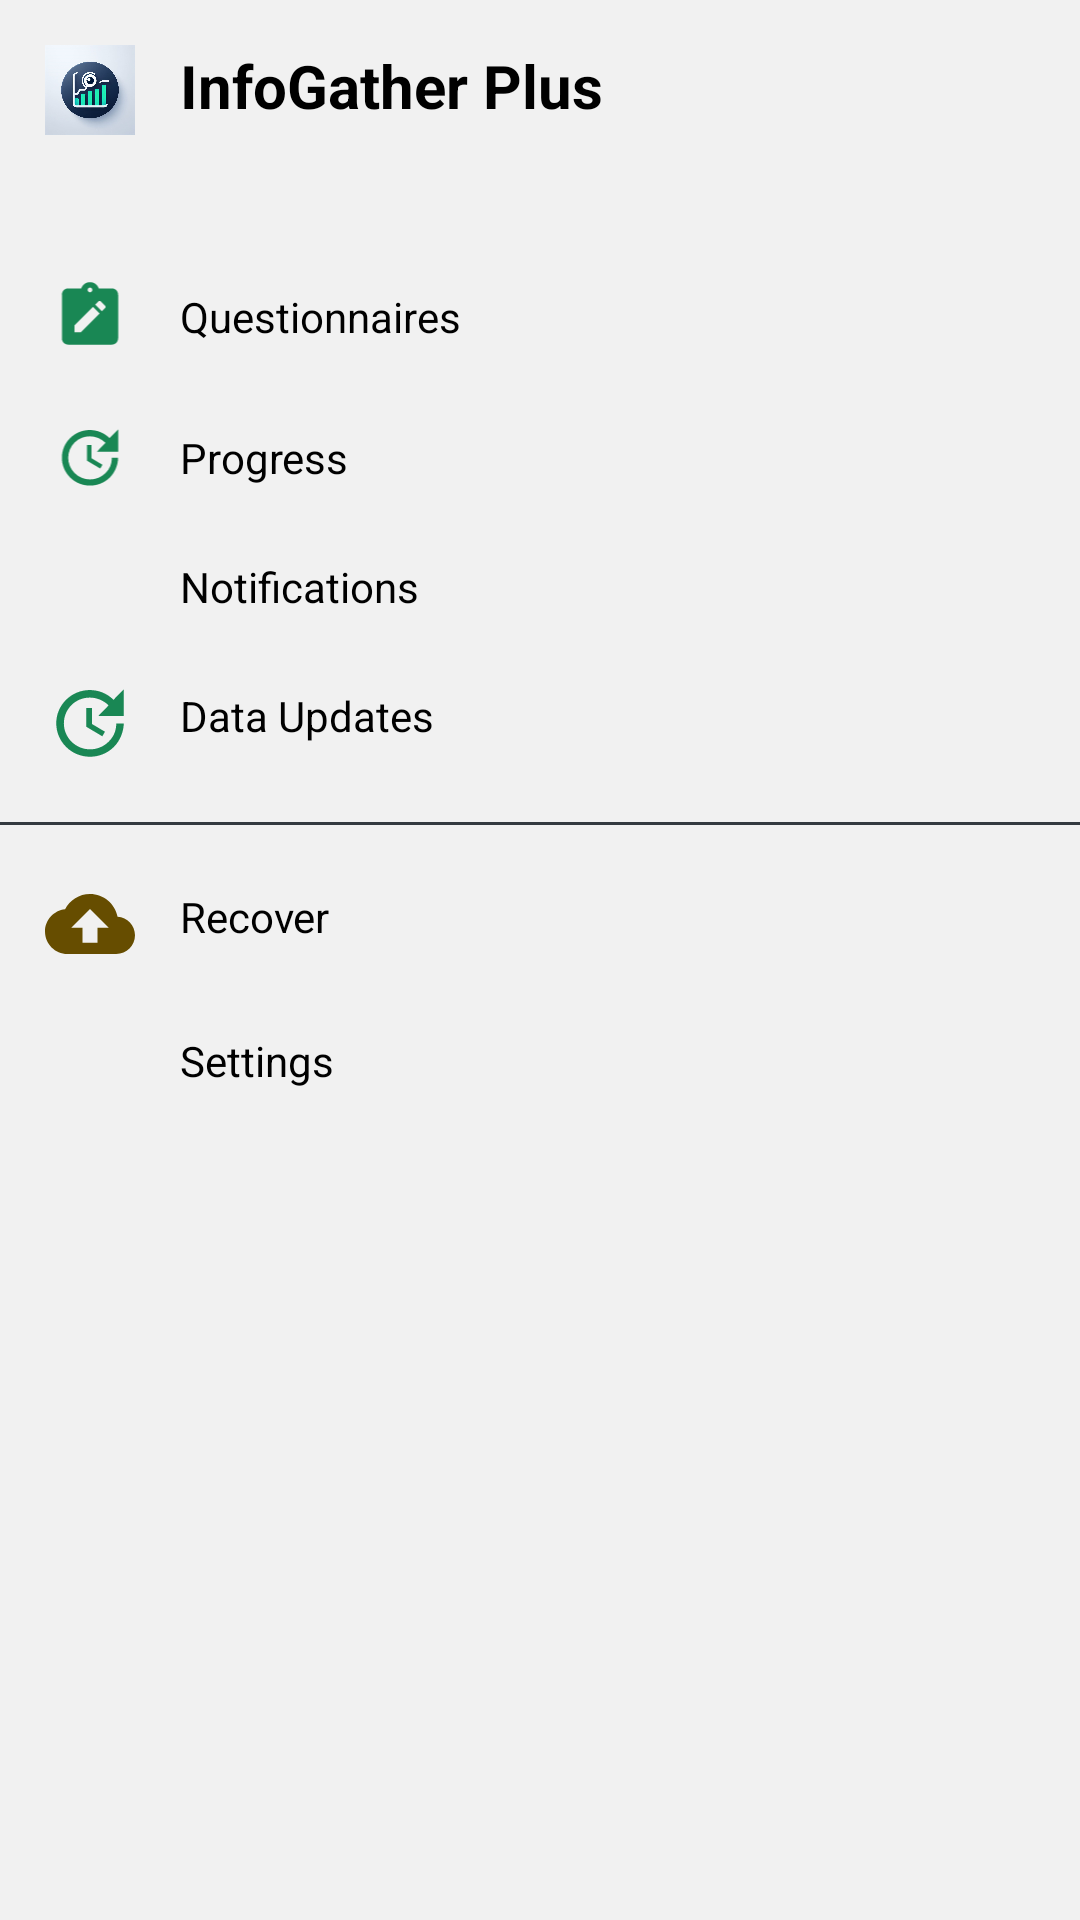

Locate icon controls on the screen. Image size 1080 × 1920, boxes as rect(x1, y1, x2, y2).
backup: rect(45, 894, 135, 954)
note: rect(61, 282, 119, 345)
